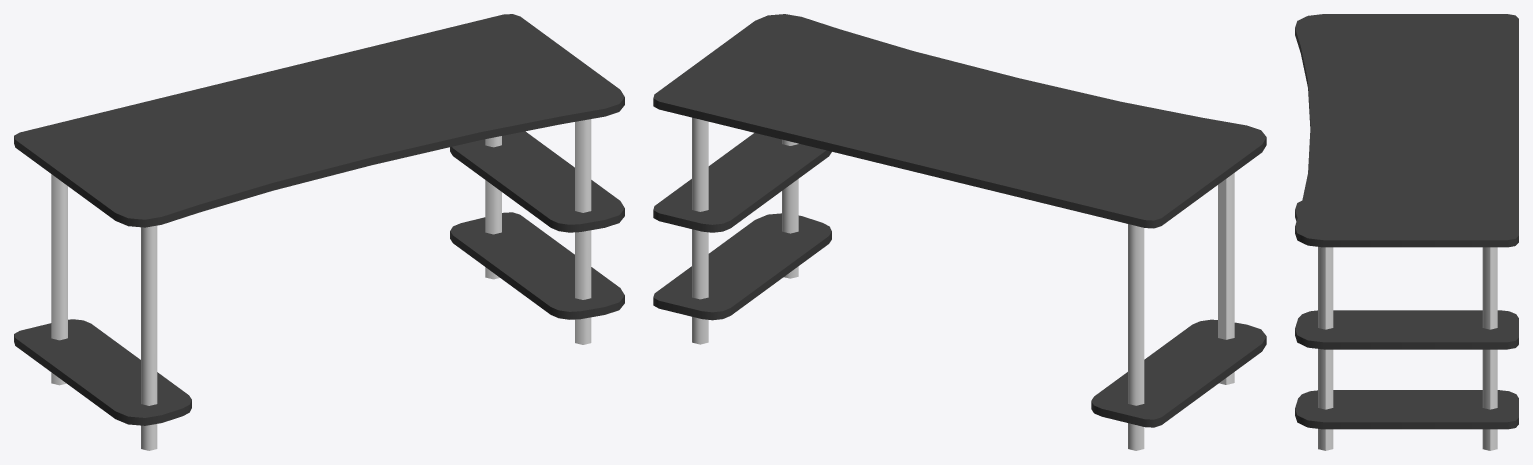
The model's file is office_table_008.glb.
3 views of the same model, side by side, from view 1: azimuth 30°, elevation 25°; view 2: azimuth 150°, elevation 25°; view 3: azimuth 270°, elevation 25° (orthographic). The views are drawn at different scales.
Parts seen in each view (by area): view 1: office_table_008; view 2: office_table_008; view 3: office_table_008.
Boxes of the visible parts, x1,y1,x2,y2 form: office_table_008: (14, 14, 624, 450); office_table_008: (653, 14, 1266, 450); office_table_008: (1295, 14, 1518, 450).
Size of the model in its own units: 1.58 by 0.7293 by 0.663.
Materials: 1 (1 with a texture image).
